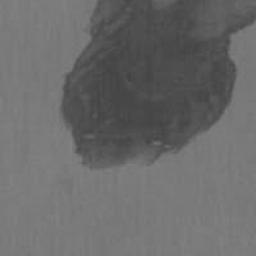Oil spot: (56, 0, 256, 173)
